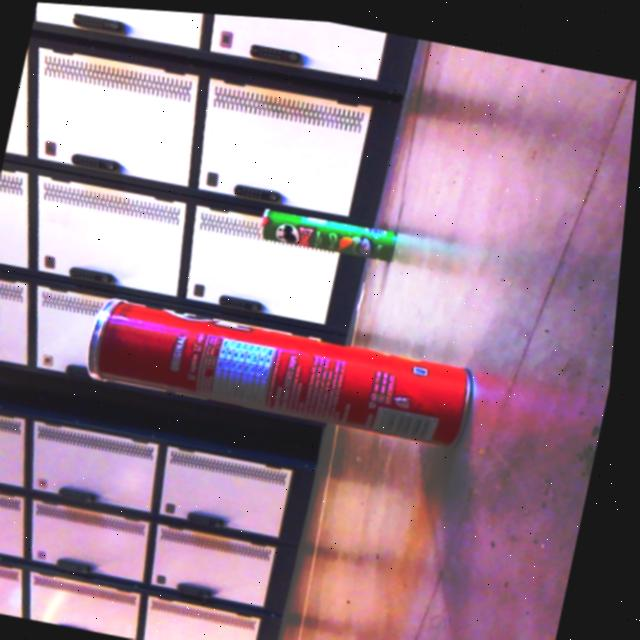greenpringles: (233, 173, 419, 279)
redpringles: (65, 270, 503, 468)
